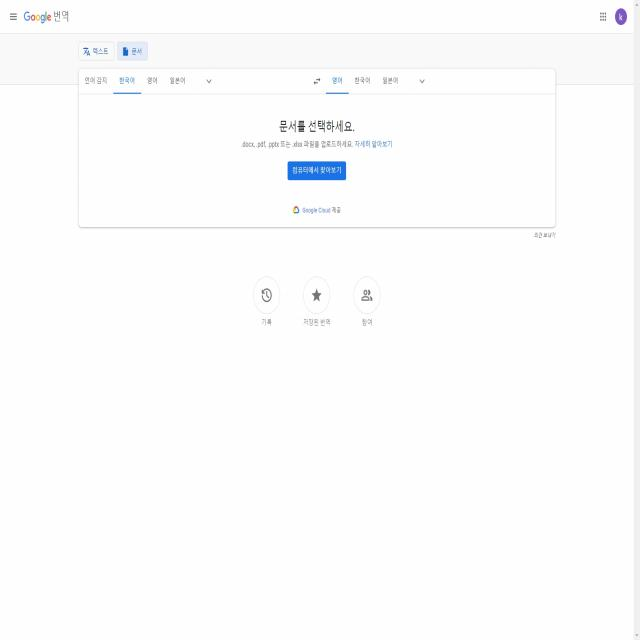menu-bar: (590, 2, 630, 31), (4, 6, 22, 28)
menu-panel: (323, 68, 432, 94), (111, 67, 216, 93)
